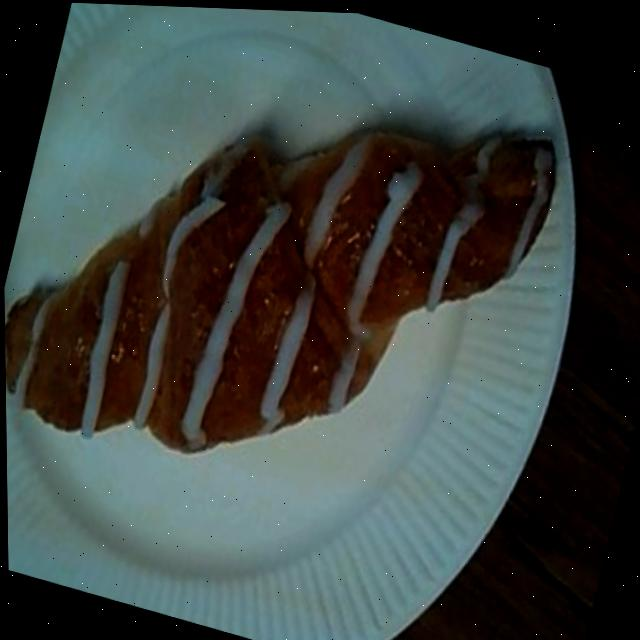面包点心: (0, 0, 619, 591)
